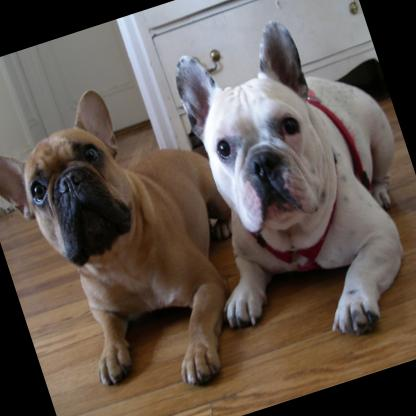French_bulldog: (138, 0, 416, 374), (0, 59, 275, 416)
